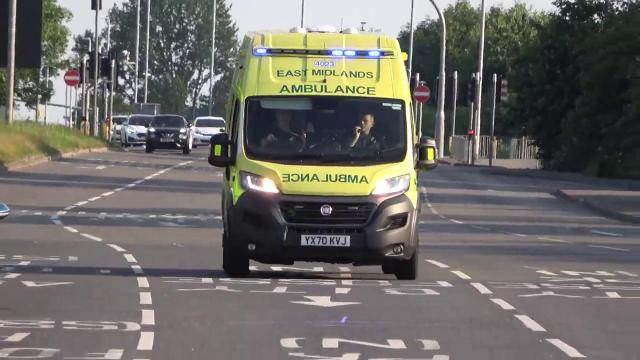police: (226, 31, 424, 280)
